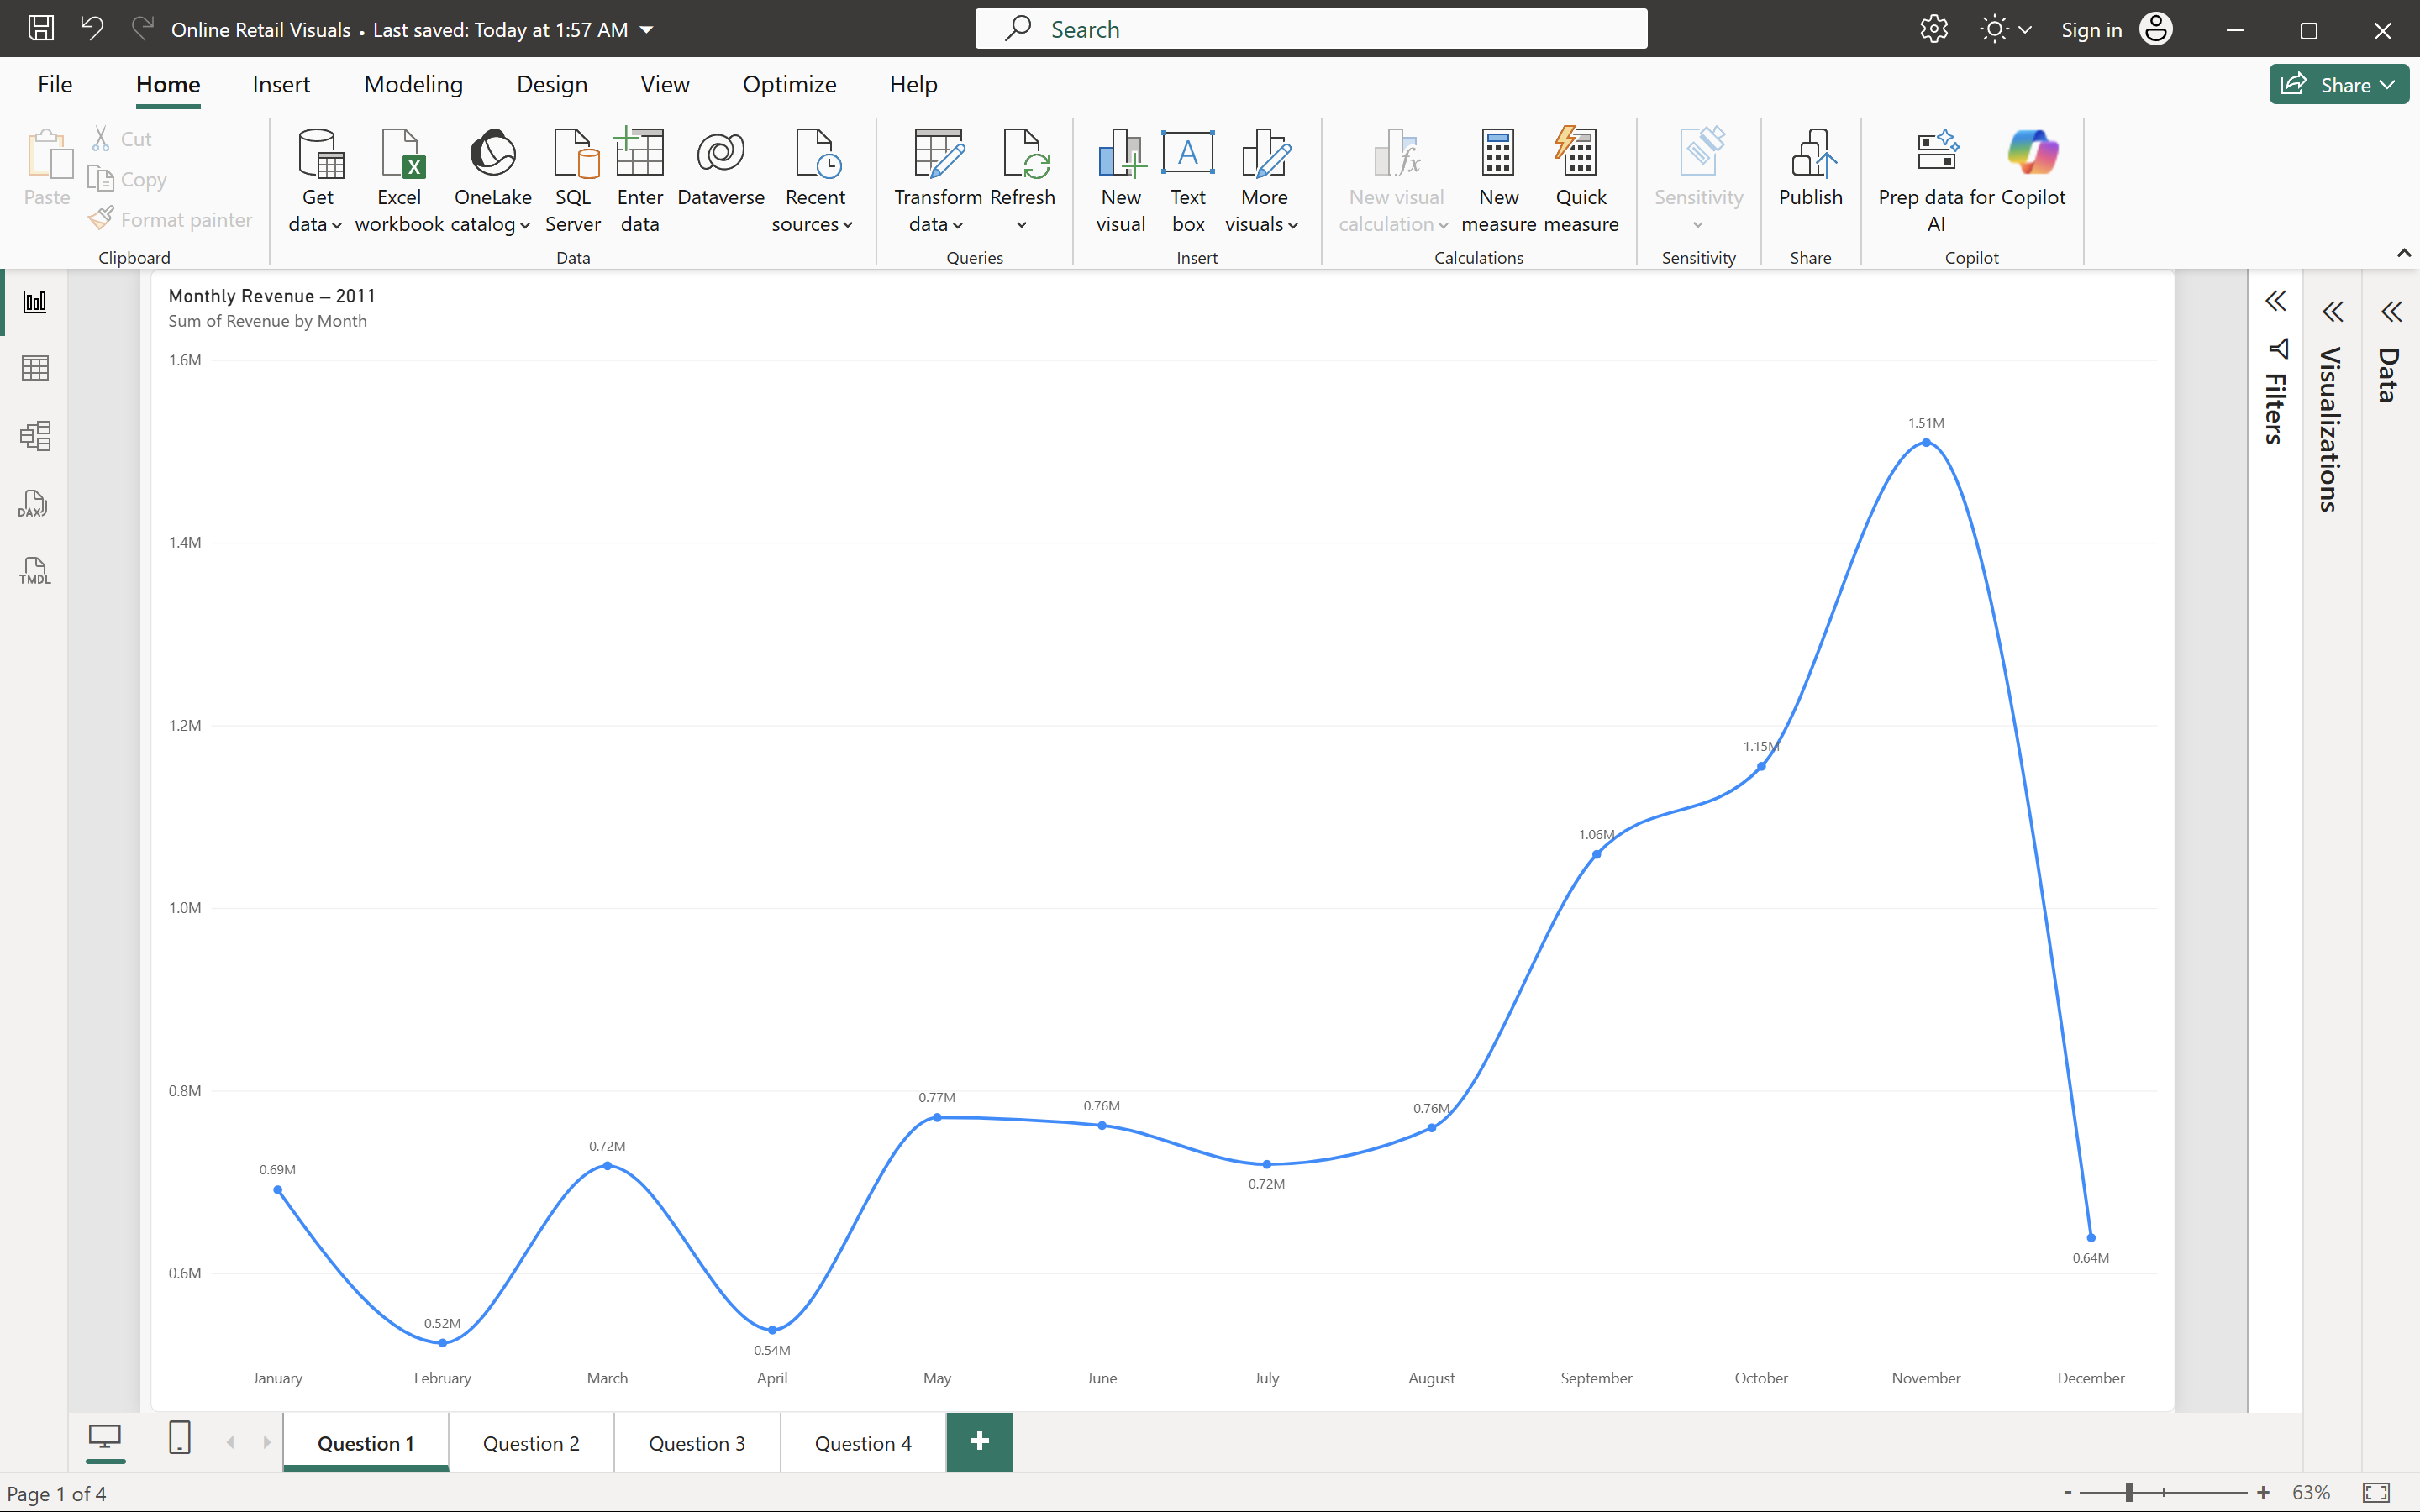

The page's visual inventory and layout, read from the dashboard file:
{"tool":"powerbi","page":{"name":"Question 1","canvas":[1920,1080],"ordinal":0},"visuals":[{"type":"lineChart","title":"Monthly Revenue – 2011","fields":{"Category":["Online Retail.InvoiceDate.Variation.Date Hierarchy.Month"],"Y":["Sum(Online Retail.Revenue)"]},"box":[9.2,0,1910.8,1079.4],"z":0}]}

Visuals, with their boxes on the page's 1920x1080 design canvas (x1, y1, x2, y2). These are canvas units, not pixel positions in the 2420x1512 screenshot, which may show the page scaled, cropped or inside an application window:
"Monthly Revenue – 2011" lineChart: left=9, top=0, right=1920, bottom=1079
